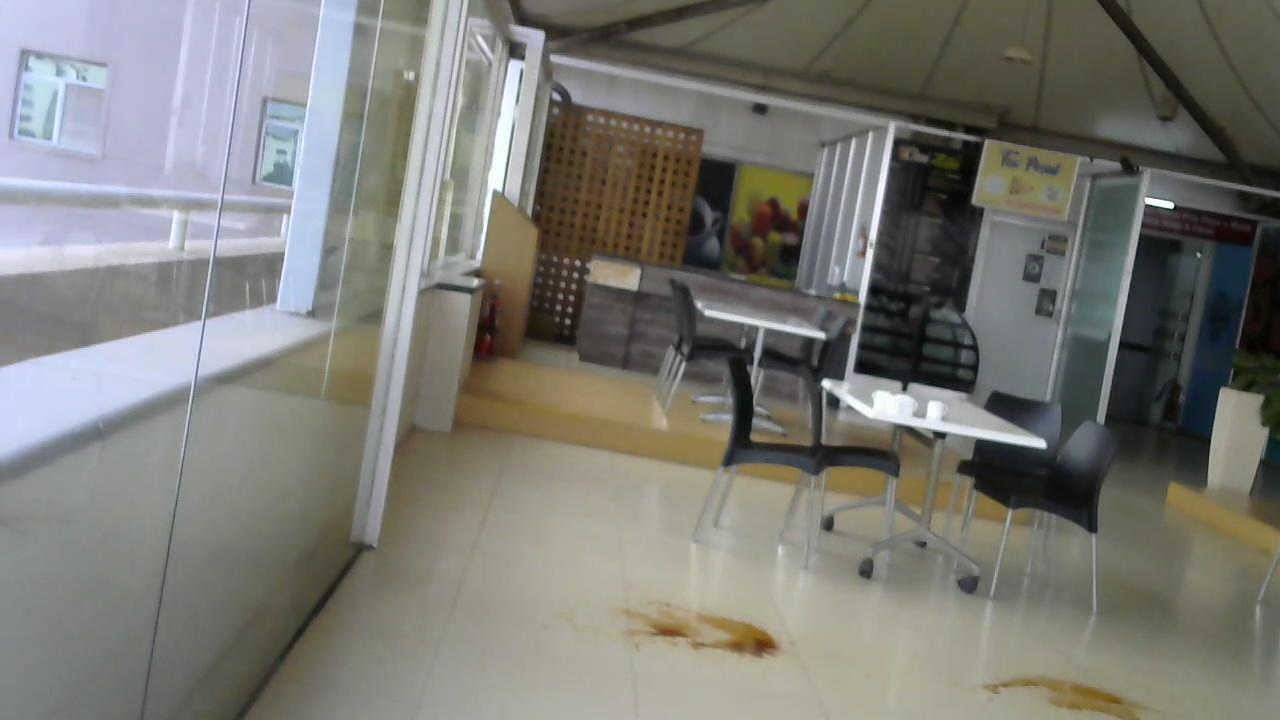dirty_floor: (606, 598, 790, 665), (975, 669, 1143, 719)
